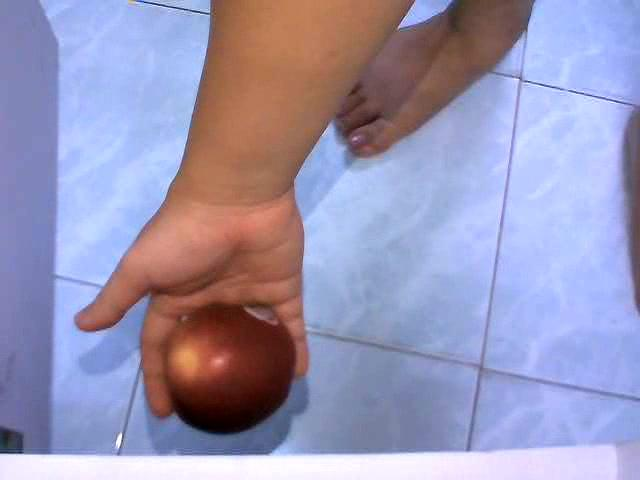apple: (161, 302, 297, 434)
